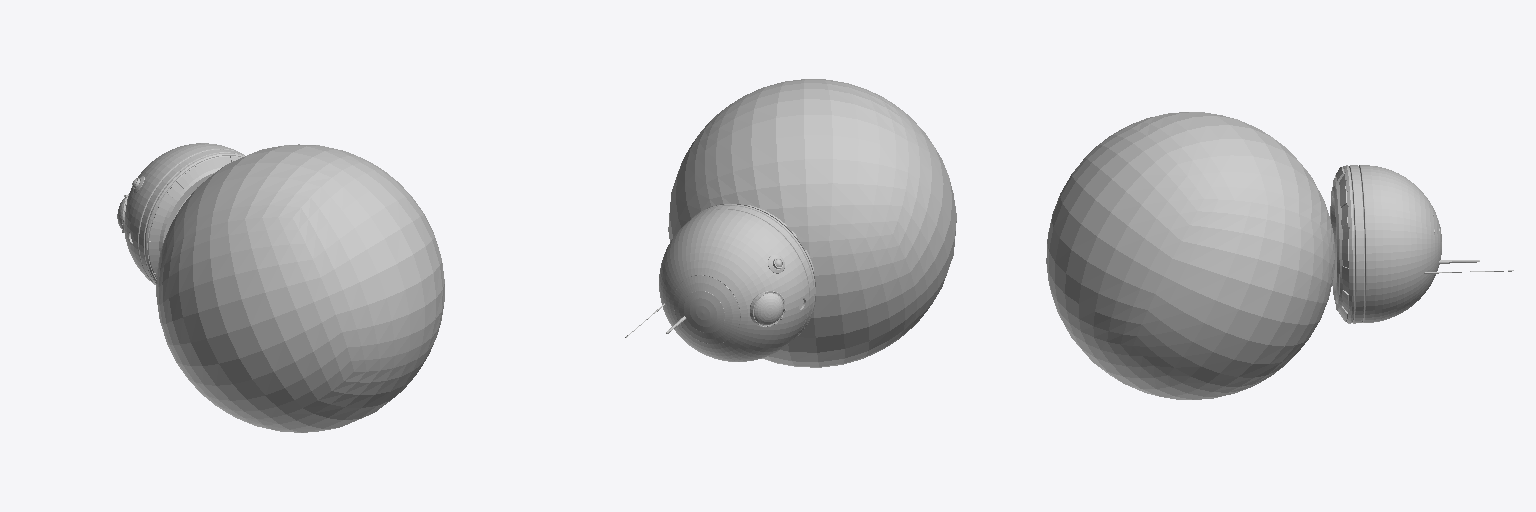
Rendered from bb8_droid.obj.
The picture shows the model from 3 angles: view 1: azimuth 30°, elevation 25°; view 2: azimuth 150°, elevation 25°; view 3: azimuth 270°, elevation 25°; orthographic projection.
Visible parts, largest first — view 1: Box001_Untitled.001, Object004_Untitled; view 2: Box001_Untitled.001, Object004_Untitled; view 3: Box001_Untitled.001, Object004_Untitled.
Part boxes in pixels (x1,y1,x2,y2): Box001_Untitled.001: (156,144,444,432); Object004_Untitled: (117,143,244,284); Box001_Untitled.001: (668,79,956,367); Object004_Untitled: (625,204,815,361); Box001_Untitled.001: (1046,112,1334,399); Object004_Untitled: (1330,165,1513,323).
Size of the model in its own units: 0.9935 by 0.9911 by 1.61.